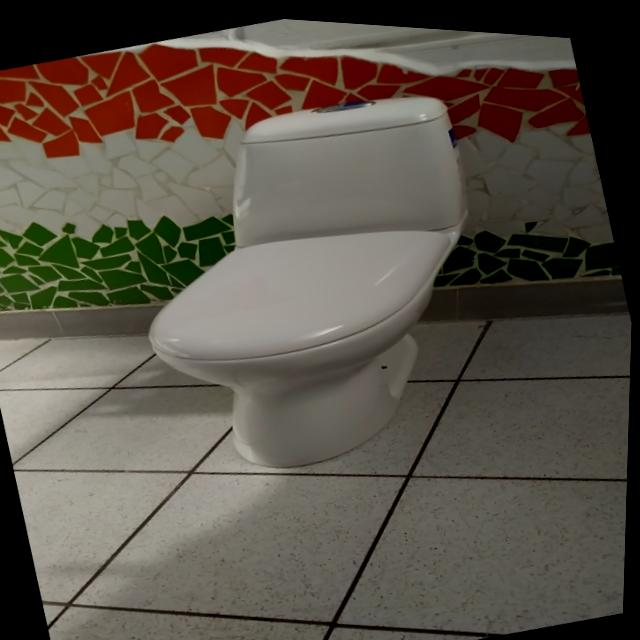toilet: (98, 59, 530, 503)
